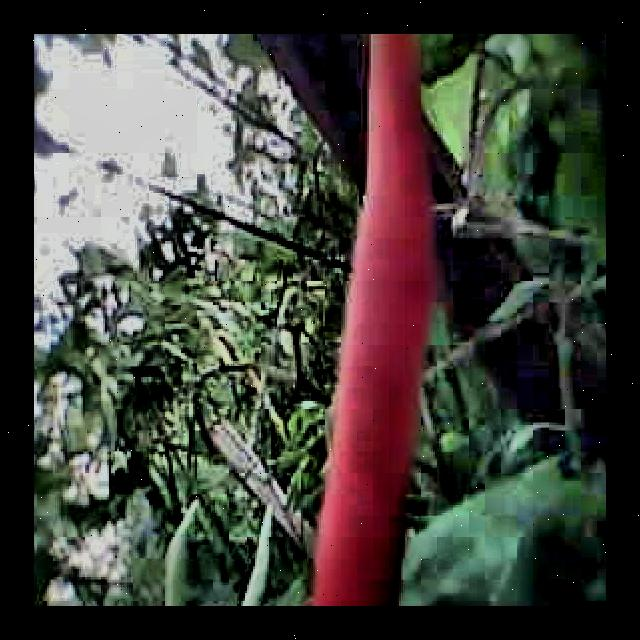Cabai: (323, 34, 435, 606)
